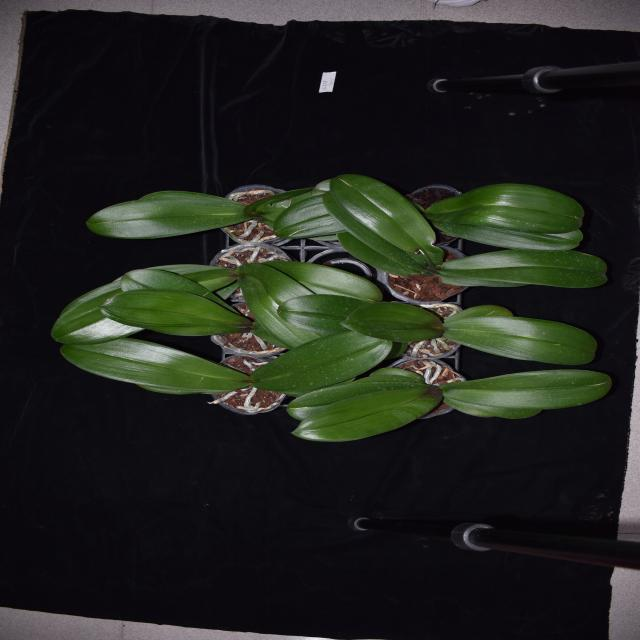leaf: (45, 274, 233, 342), (58, 336, 247, 396), (333, 175, 445, 267), (287, 385, 444, 448), (82, 186, 253, 242), (250, 329, 390, 395), (232, 262, 338, 347), (423, 181, 586, 235), (436, 367, 618, 410), (432, 249, 612, 290), (93, 290, 253, 336), (445, 320, 598, 366), (256, 256, 382, 304), (283, 382, 433, 422), (124, 268, 240, 314), (338, 297, 445, 341), (438, 220, 586, 247), (272, 292, 372, 331), (336, 232, 417, 276), (265, 199, 342, 237), (248, 186, 321, 226), (436, 398, 552, 418), (442, 304, 519, 324), (189, 268, 238, 288), (372, 368, 422, 380)
